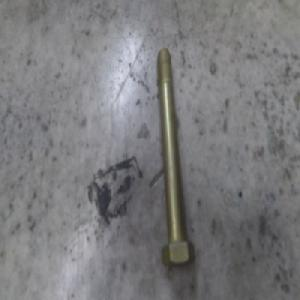Bolt: (155, 45, 194, 266)
